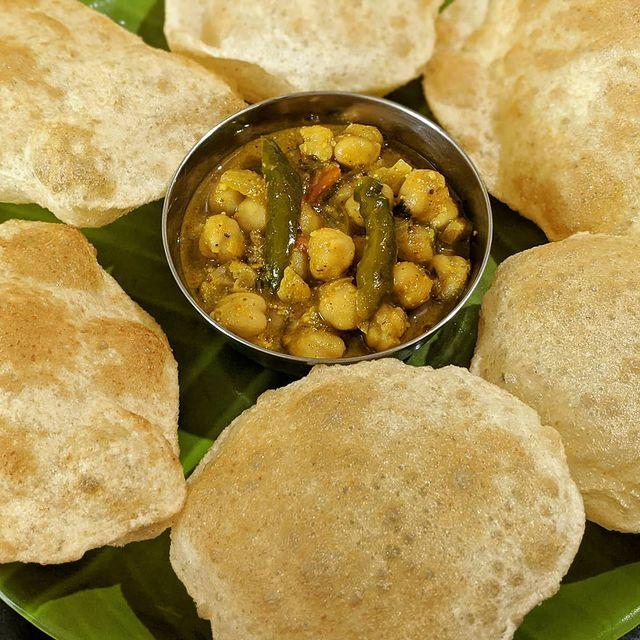Chole: (181, 82, 494, 370)
